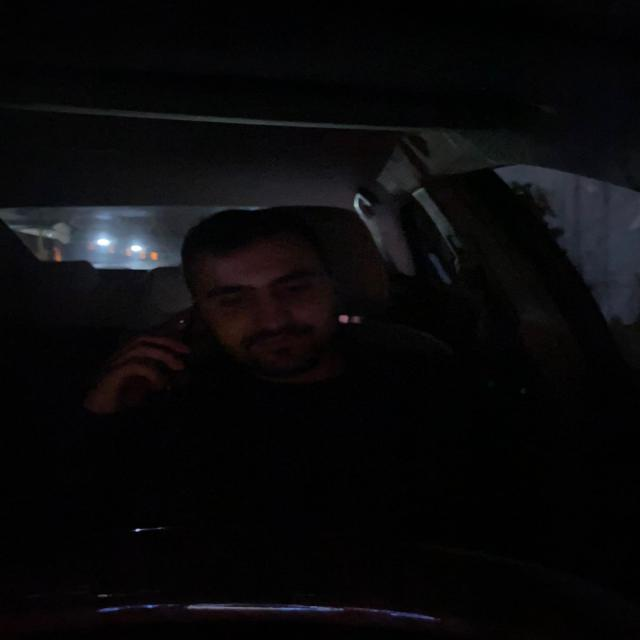person: (181, 200, 354, 380)
